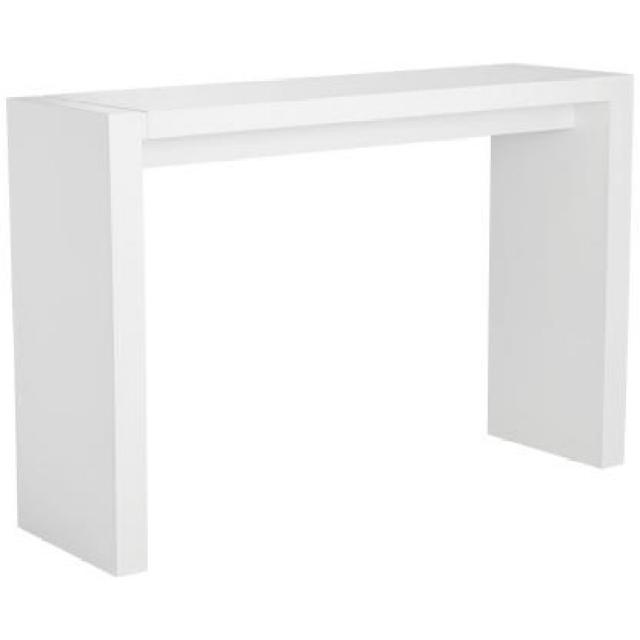table: (6, 62, 634, 573)
